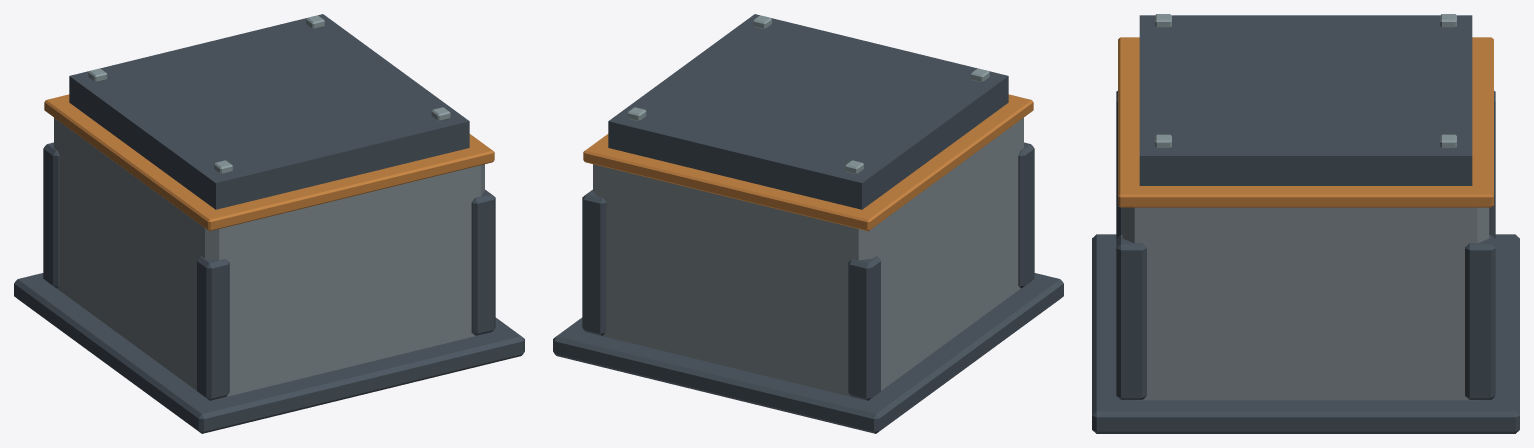
Rendered from wsc-kit-007-storm-beacon-seat.glb.
The picture shows the model from 3 angles, left to right: view 1: azimuth 30°, elevation 25°; view 2: azimuth 150°, elevation 25°; view 3: azimuth 270°, elevation 25°; orthographic projection. The views are drawn at different scales.
Visible parts, largest first — view 1: Upper pedestal, Square metal seat, Foundation flange, Warning seam, Buttress, Buttress.002, Buttress.001; view 2: Upper pedestal, Square metal seat, Foundation flange, Warning seam, Buttress.001, Buttress.003, Buttress; view 3: Upper pedestal, Square metal seat, Foundation flange, Warning seam, Buttress.002, Buttress.003, Buttress, Buttress.001.
Part boxes in pixels (<box>): Upper pedestal: <box>54,117,484,398</box>; Square metal seat: <box>69,14,469,209</box>; Foundation flange: <box>14,273,524,433</box>; Warning seam: <box>44,94,494,231</box>; Buttress: <box>197,256,229,400</box>; Buttress.002: <box>471,189,495,335</box>; Buttress.001: <box>43,142,59,288</box>; Upper pedestal: <box>593,117,1023,398</box>; Square metal seat: <box>608,14,1008,209</box>; Foundation flange: <box>553,273,1063,433</box>; Warning seam: <box>583,94,1033,231</box>; Buttress.001: <box>848,256,880,400</box>; Buttress.003: <box>582,189,606,335</box>; Buttress: <box>1018,142,1034,288</box>; Upper pedestal: <box>1122,207,1489,400</box>; Square metal seat: <box>1139,15,1472,185</box>; Foundation flange: <box>1092,234,1519,433</box>; Warning seam: <box>1118,37,1493,207</box>; Buttress.002: <box>1116,235,1146,399</box>; Buttress.003: <box>1465,235,1495,399</box>; Buttress: <box>1116,91,1122,238</box>; Buttress.001: <box>1489,91,1495,238</box>.
Bounding box in the file's own units: 3.78 × 2.62 × 3.78.
